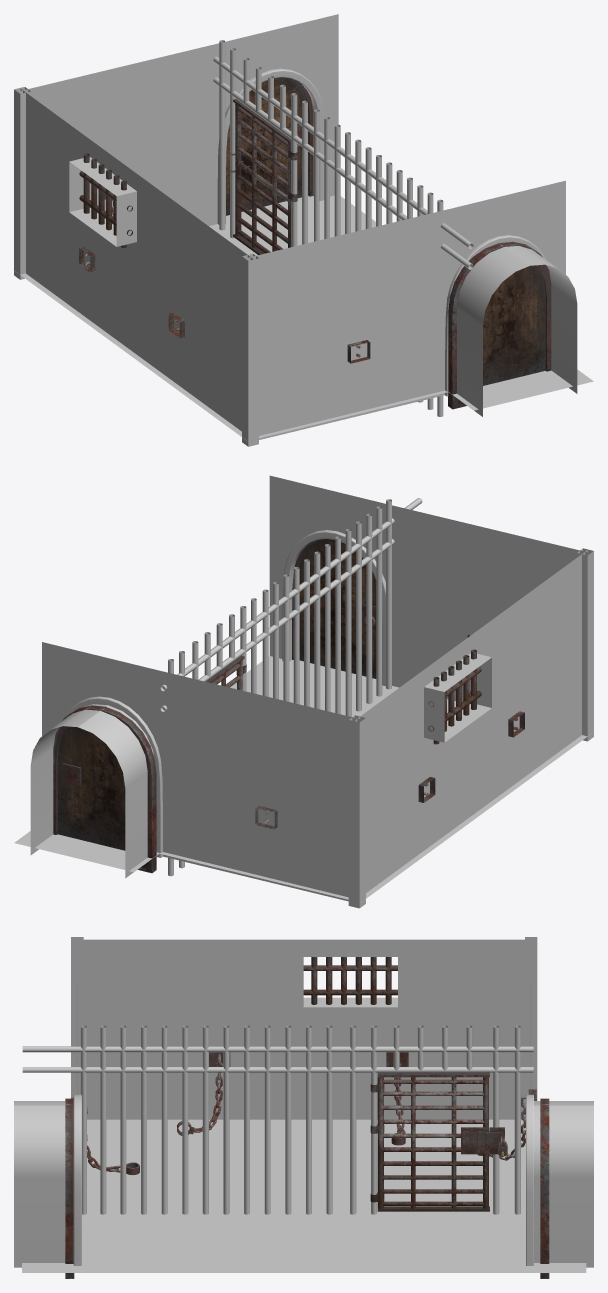
The picture shows the model from 3 angles, top to bottom: view 1: azimuth 30°, elevation 25°; view 2: azimuth 150°, elevation 25°; view 3: azimuth 270°, elevation 25°; orthographic projection.
Parts seen in each view (by area): view 1: Dungeon_Wallz, Bars, pCylinder45, Dungeon_Floor, Gate1, pCylinder44, polySurface55, Chainsmeshthing; view 2: Dungeon_Wallz, Bars, pCylinder44, Dungeon_Floor, pCylinder45, polySurface55, Chainsmeshthing, Gate1; view 3: Dungeon_Wallz, Dungeon_Floor, Bars, Gate1, polySurface55, Chainsmeshthing, pCylinder44, pCylinder45.
Boxes of the visible parts, box(x1,y1,x2,y2) form: Dungeon_Wallz: box(14, 14, 577, 446); Bars: box(213, 40, 473, 416); pCylinder45: box(448, 241, 551, 409); Dungeon_Floor: box(15, 195, 593, 440); Gate1: box(228, 99, 297, 254); pCylinder44: box(226, 77, 312, 215); polySurface55: box(79, 153, 132, 247); Chainsmeshthing: box(79, 194, 370, 363); Dungeon_Wallz: box(30, 475, 593, 908); Bars: box(160, 498, 422, 876); pCylinder44: box(53, 705, 156, 873); Dungeon_Floor: box(14, 656, 591, 899); pCylinder45: box(292, 538, 376, 678); polySurface55: box(428, 649, 481, 744); Chainsmeshthing: box(255, 634, 524, 829); Gate1: box(206, 655, 246, 690); Dungeon_Wallz: box(14, 937, 593, 1267); Dungeon_Floor: box(22, 1119, 586, 1272); Bars: box(22, 1025, 533, 1214); Gate1: box(370, 1072, 507, 1211); polySurface55: box(303, 957, 397, 1004); Chainsmeshthing: box(71, 1052, 536, 1175); pCylinder44: box(540, 1098, 549, 1278); pCylinder45: box(65, 1098, 74, 1278).
Bounding box in the file's own units: 4.81 × 2.94 × 7.23.
